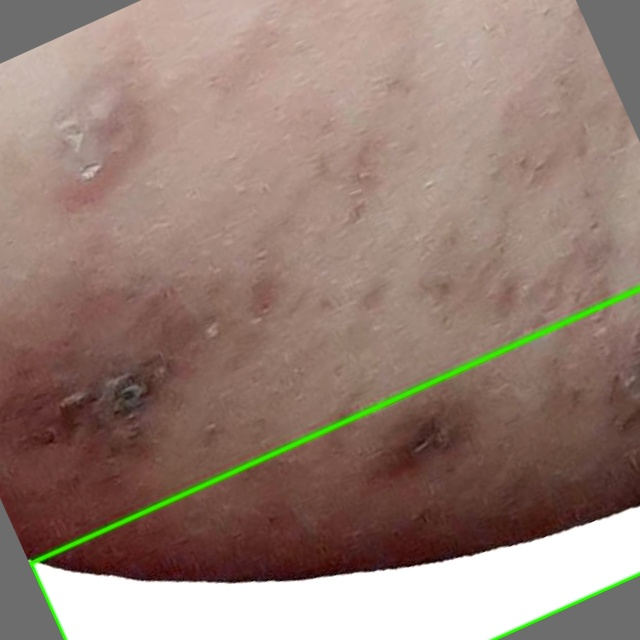Scabies: (30, 288, 639, 639)
